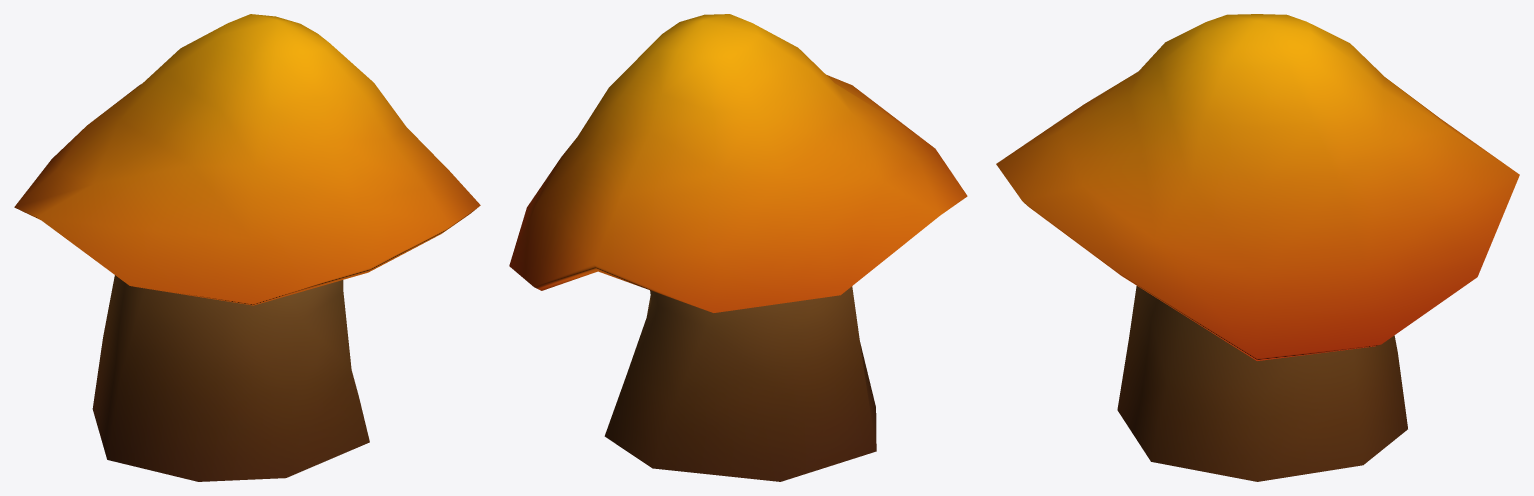
The model's file is Mushroom_D.fbx.
3 renders of one model, left to right at view 1: azimuth 30°, elevation 25°; view 2: azimuth 150°, elevation 25°; view 3: azimuth 270°, elevation 25°, orthographic. The views are drawn at different scales.
Visible parts, largest first — view 1: Mushroom_D; view 2: Mushroom_D; view 3: Mushroom_D.
Boxes of the visible parts, x1,y1,x2,y2 form: Mushroom_D: [14, 14, 480, 481]; Mushroom_D: [509, 14, 967, 481]; Mushroom_D: [996, 14, 1519, 481].
Size of the model in its own units: 33.71 by 30.47 by 34.54.
